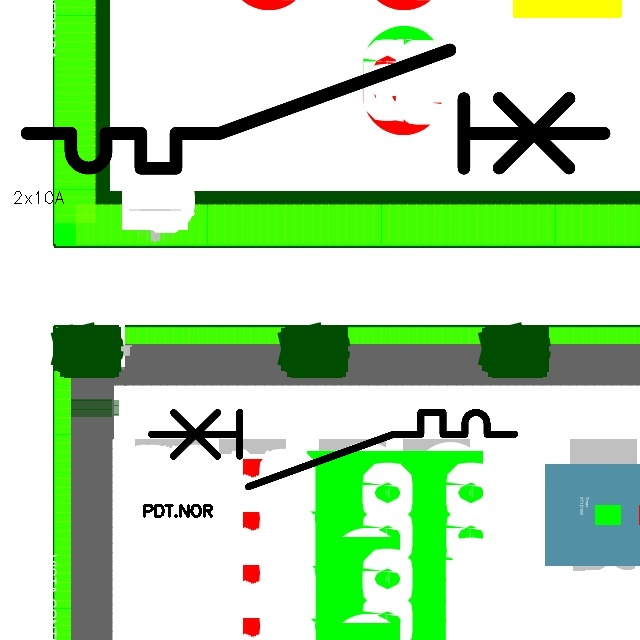interruptor_termomagnetico: (12, 35, 619, 183), (142, 403, 524, 496)
